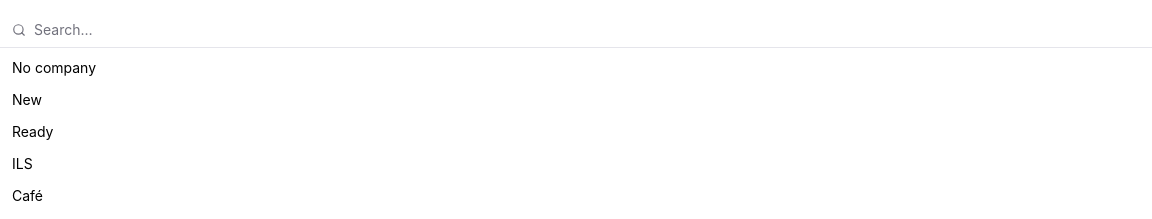
Test: OptionList › lists a clearing choice only before typing, so Enter after a search picks a match
Expected: the option "No company" is shown, x1=12 y1=59 x2=96 y2=76
Type "acme" into the dropdown named "Company" at (587, 30), box x1=34 y1=12 x2=1140 y2=47
Then press Enter
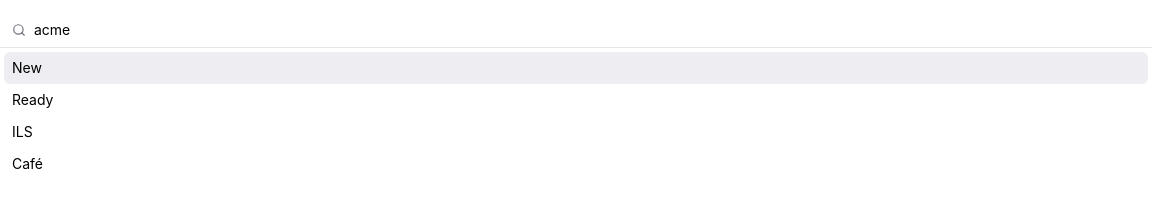
Result: the option "No company" is gone
